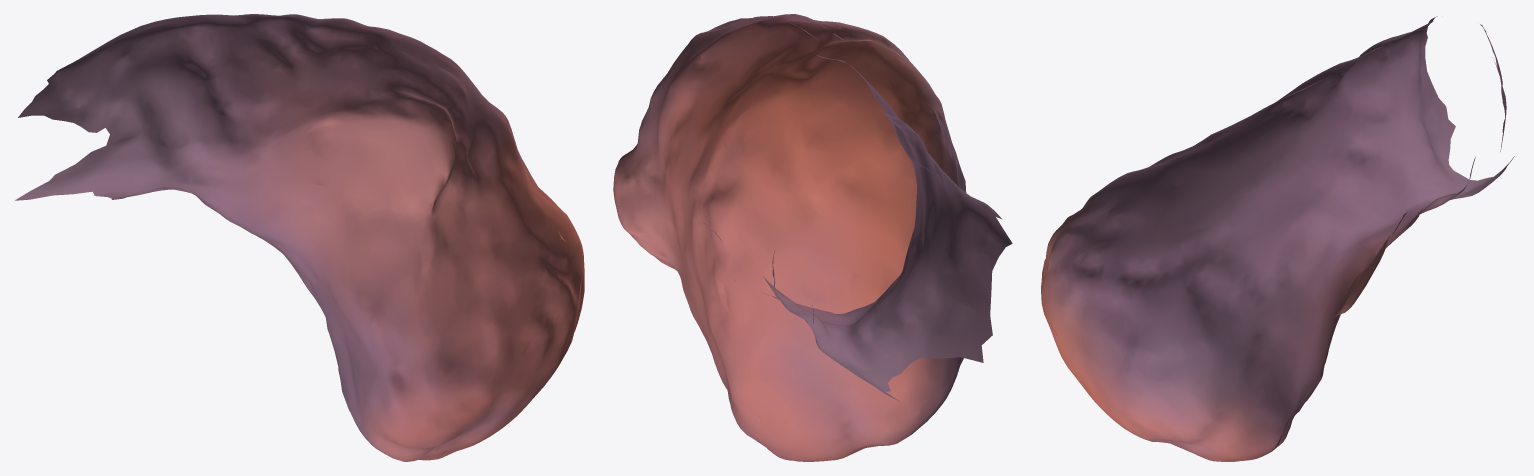
File: LODS_Cloud_global_13.glb
The picture shows the model from 3 angles, left to right: view 1: azimuth 30°, elevation 25°; view 2: azimuth 150°, elevation 25°; view 3: azimuth 270°, elevation 25°; orthographic projection. The views are drawn at different scales.
Visible parts, largest first — view 1: LOD0; view 2: LOD0; view 3: LOD0.
Boxes of the visible parts, x1,y1,x2,y2 form: LOD0: (15,14,584,461); LOD0: (613,14,1012,461); LOD0: (1041,16,1514,461).
Size of what is drawn, in the model's own units: 0.2431 by 0.234 by 0.2746.
